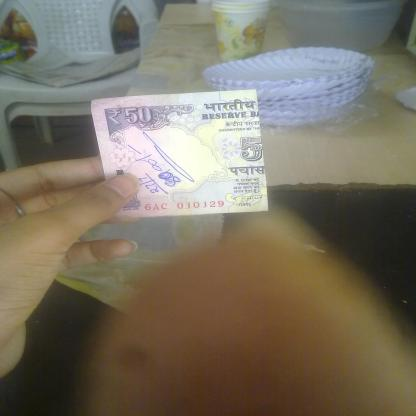Old50Front: (91, 90, 268, 218)
